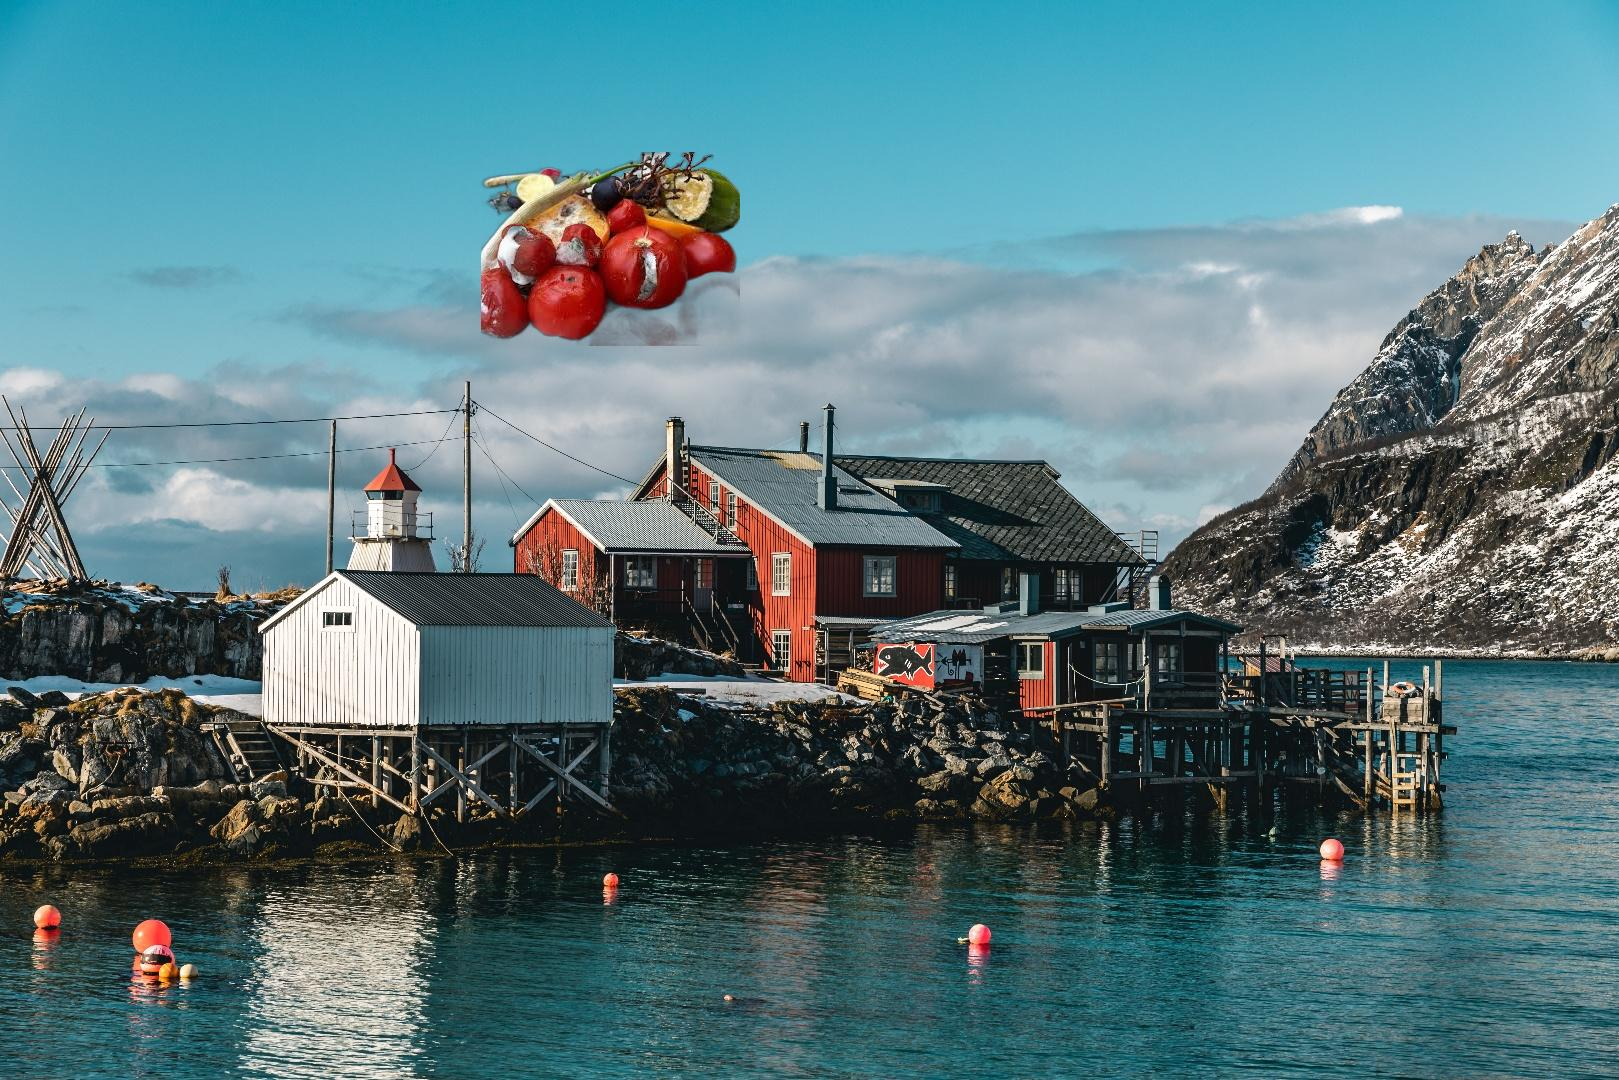biological: (481, 152, 740, 346)
